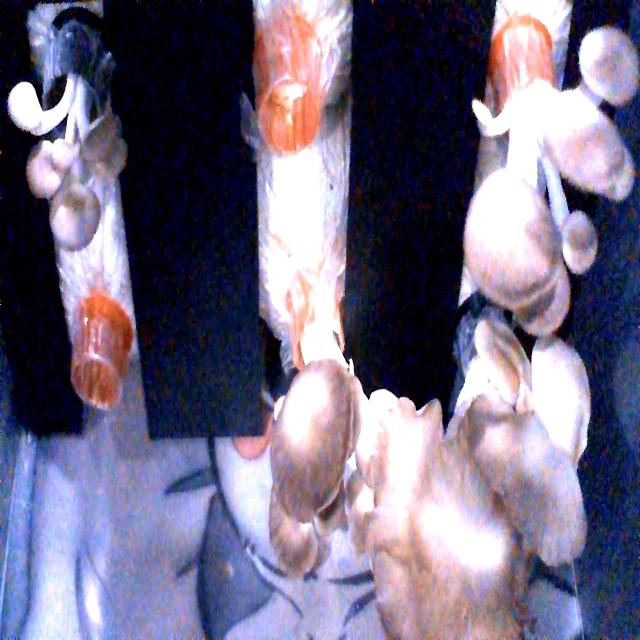big: (350, 359, 601, 640), (447, 29, 640, 348), (267, 362, 408, 569)
nfound: (262, 58, 322, 163), (63, 340, 135, 414)
small: (6, 71, 144, 249)
